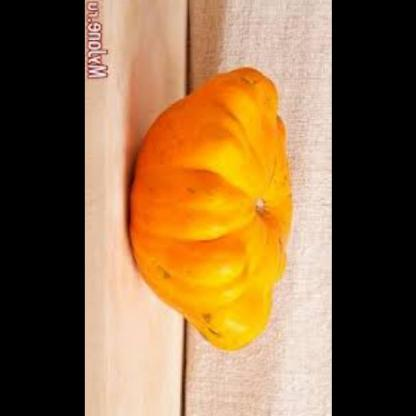squash-patisson: (124, 68, 295, 359)
